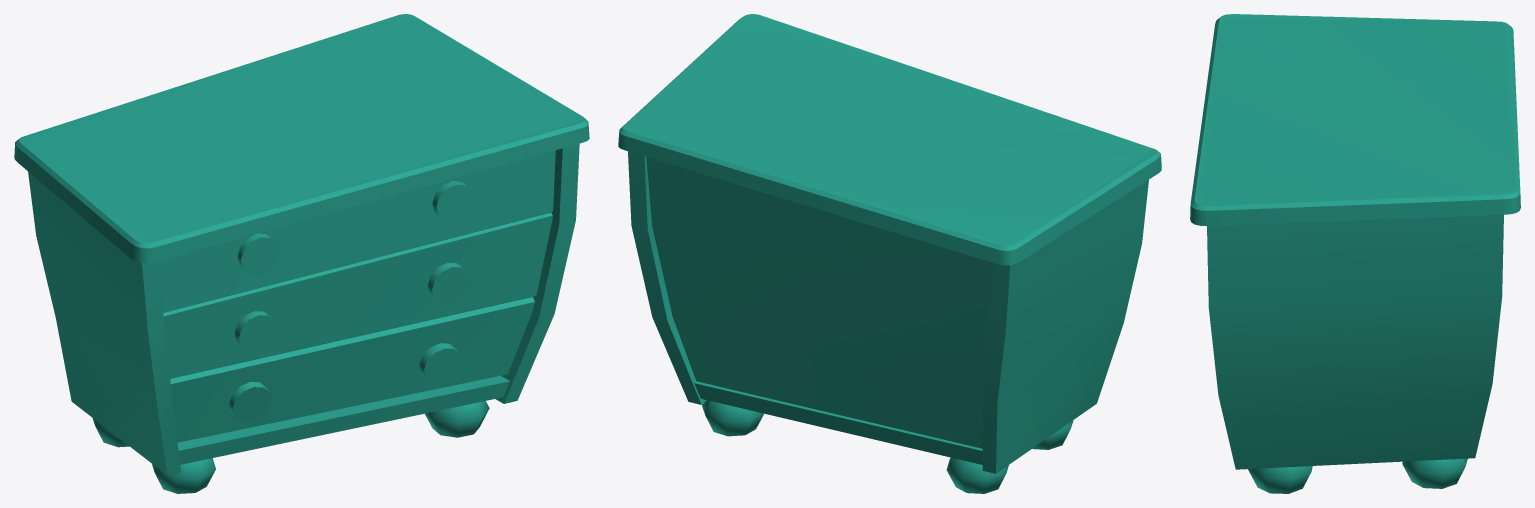
File: Drawer.FBX
3 renders of one model, left to right at view 1: azimuth 30°, elevation 25°; view 2: azimuth 150°, elevation 25°; view 3: azimuth 270°, elevation 25°, orthographic. The views are drawn at different scales.
Parts seen in each view (by area): view 1: Drawer; view 2: Drawer; view 3: Drawer.
Boxes of the visible parts, box(x1,y1,x2,y2) form: Drawer: box(14, 14, 589, 493); Drawer: box(618, 14, 1161, 493); Drawer: box(1190, 14, 1520, 493).
Size of the model in its own units: 99.41 by 69.19 by 62.48.
